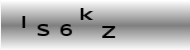6: (59, 22, 74, 37)
S: (36, 23, 50, 37)
Z: (101, 25, 116, 38)
k: (79, 7, 94, 21)
l: (21, 15, 25, 28)
